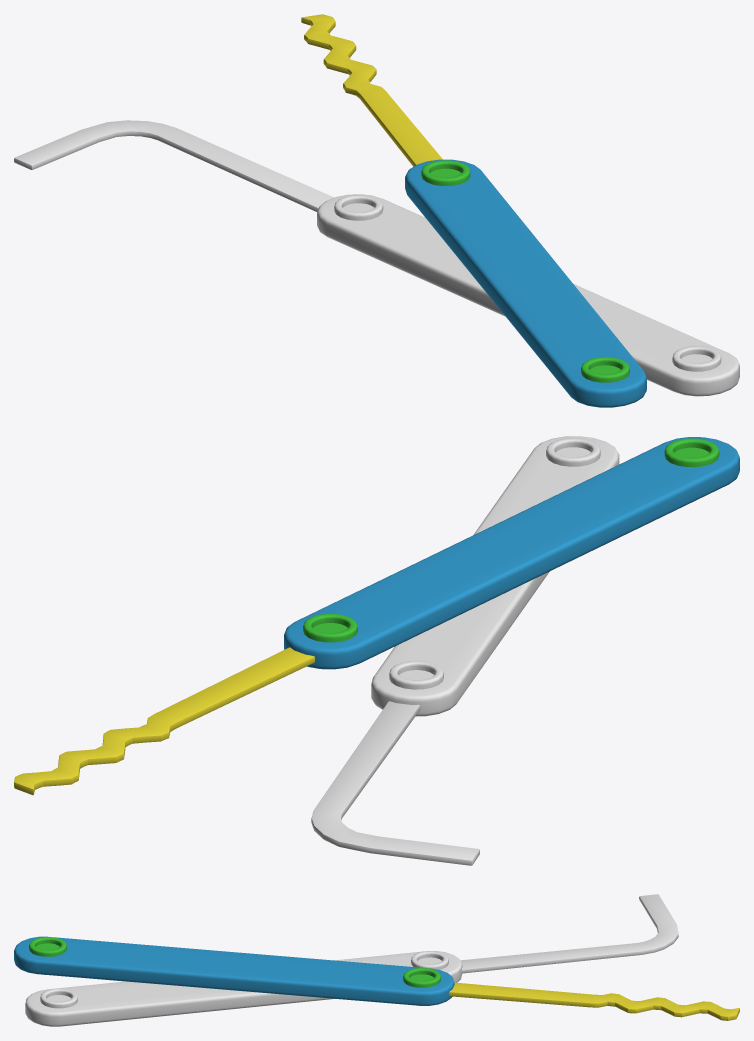
Rendered from lockpicks.fbx.
The picture shows the model from 3 angles, top to bottom: view 1: azimuth 30°, elevation 25°; view 2: azimuth 150°, elevation 25°; view 3: azimuth 270°, elevation 25°; orthographic projection. The views are drawn at different scales.
Visible parts, largest first — view 1: squiggly_low, bend_low; view 2: squiggly_low, bend_low; view 3: squiggly_low, bend_low.
Boxes of the visible parts, <box> form: squiggly_low: <box>301,14,646,407</box>; bend_low: <box>14,120,739,396</box>; squiggly_low: <box>14,437,739,795</box>; bend_low: <box>311,436,619,865</box>; squiggly_low: <box>14,936,739,1020</box>; bend_low: <box>25,894,678,1026</box>.
Size of the model in its own units: 50.21 by 6.41 by 112.
